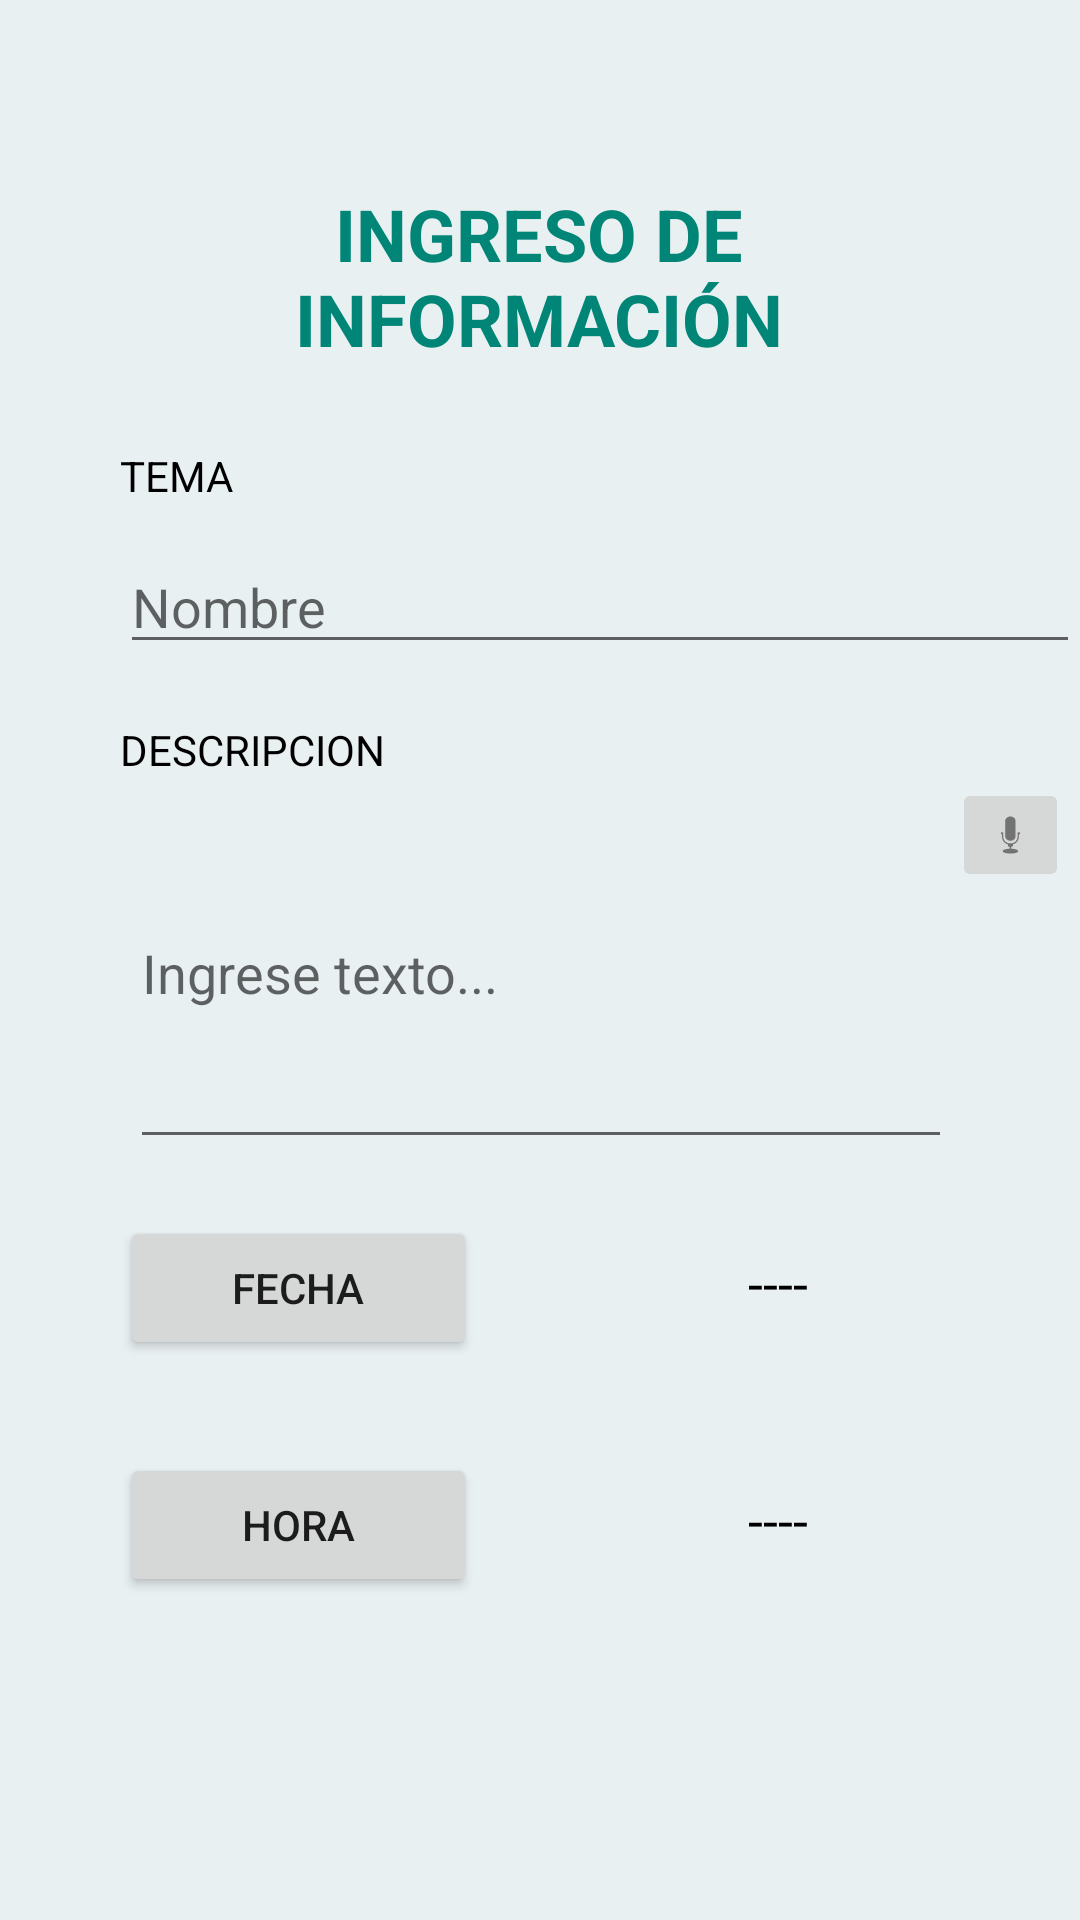

Named icons in this screenshot (1080px x 1920px) and their centers, (x,y):
speak now: (1010,835)
